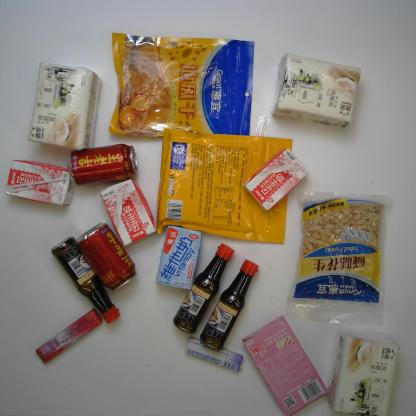Candy: (34, 307, 103, 364), (183, 337, 242, 372)
Dessert: (243, 314, 327, 414)
Dried Fruit: (107, 30, 255, 144), (157, 126, 293, 245), (291, 192, 386, 316)
Drink: (76, 219, 136, 292), (66, 143, 140, 186)
Milk: (242, 147, 308, 212), (101, 177, 154, 247), (4, 158, 73, 208), (154, 225, 203, 291)
Seasoner: (51, 236, 120, 324), (171, 243, 234, 336), (199, 258, 260, 352)
Tissue: (27, 63, 102, 154), (272, 54, 362, 127), (327, 327, 399, 415)
